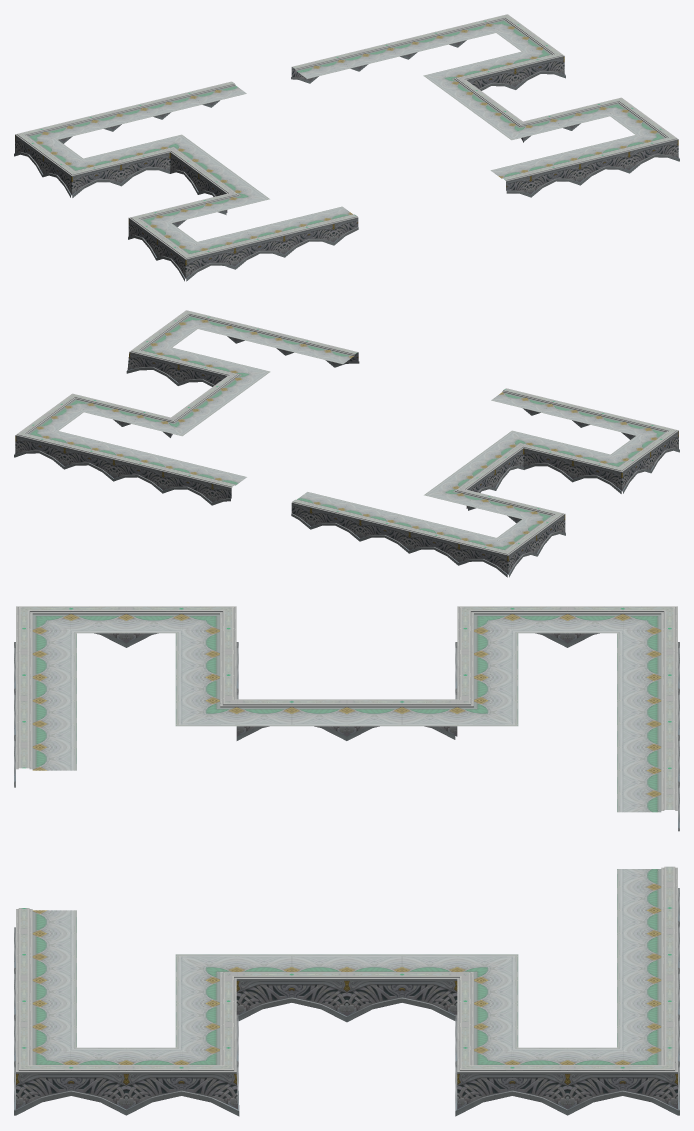
File: W3_HD_GongHuiBoss_baobian_02_03_D.FBX
3 renders of one model, top to bottom at view 1: azimuth 30°, elevation 25°; view 2: azimuth 150°, elevation 25°; view 3: azimuth 270°, elevation 25°, orthographic. The views are drawn at different scales.
Visible parts, largest first — view 1: W3_HD_GongHuiBoss_baobian_02_03_D; view 2: W3_HD_GongHuiBoss_baobian_02_03_D; view 3: W3_HD_GongHuiBoss_baobian_02_03_D.
Part boxes in pixels (box(x1,y1,x2,y2)): W3_HD_GongHuiBoss_baobian_02_03_D: box(14, 14, 679, 281); W3_HD_GongHuiBoss_baobian_02_03_D: box(14, 310, 679, 577); W3_HD_GongHuiBoss_baobian_02_03_D: box(14, 606, 679, 1116).
Size of the model in its own units: 110 by 4.92 by 66.36.
